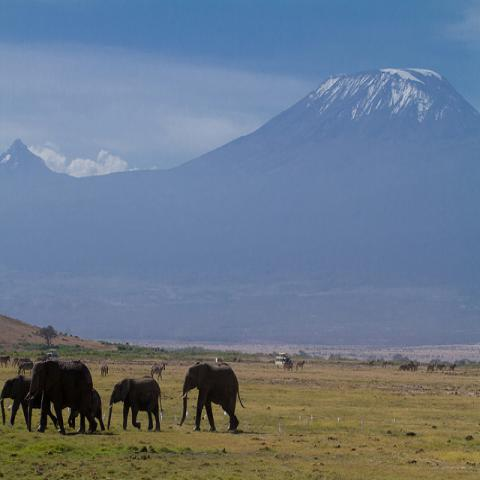bus: (274, 356, 286, 369)
car: (275, 353, 292, 368)
